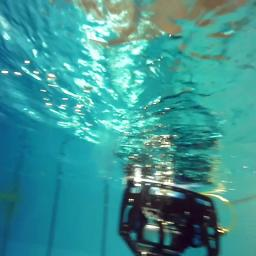Side: (118, 176, 220, 256)
